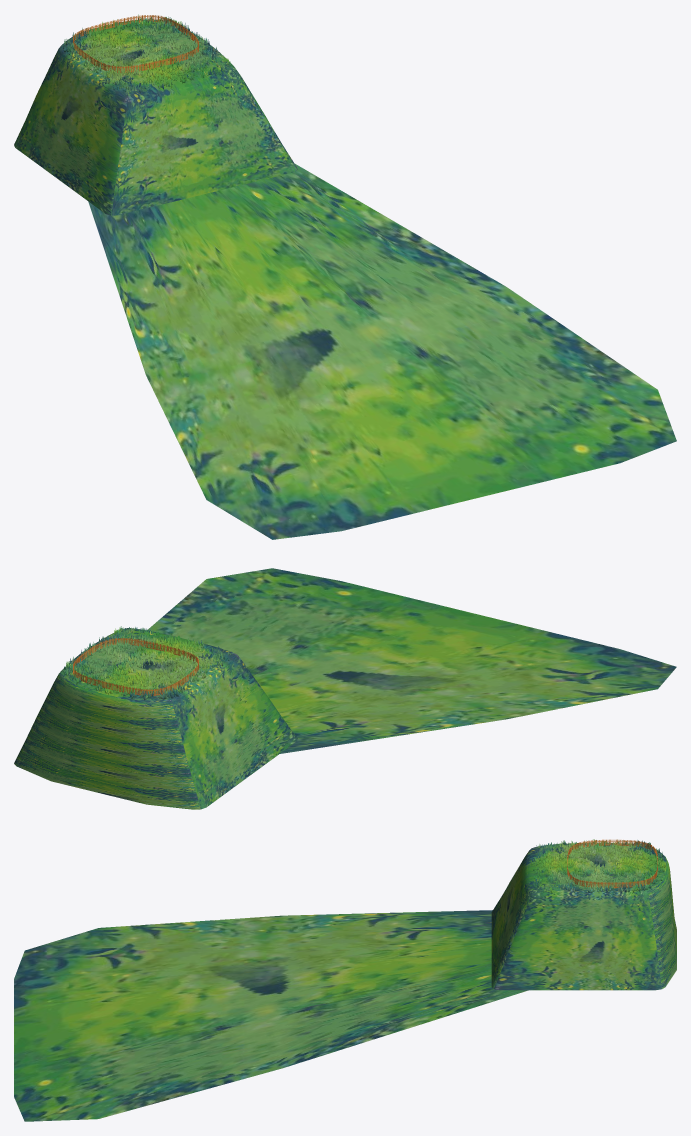
Rendered from Floor.glb.
3 renders of one model, top to bottom at view 1: azimuth 30°, elevation 25°; view 2: azimuth 150°, elevation 25°; view 3: azimuth 270°, elevation 25°, orthographic. The views are drawn at different scales.
Parts seen in each view (by area): view 1: ground, Blades, Fence; view 2: ground, Blades, Fence; view 3: ground, Blades, Fence.
Part boxes in pixels (bbox=[...]): ground: bbox=[14, 19, 676, 539]; Blades: bbox=[63, 14, 231, 95]; Fence: bbox=[73, 15, 198, 72]; ground: bbox=[14, 568, 676, 809]; Blades: bbox=[63, 626, 232, 699]; Fence: bbox=[73, 638, 198, 695]; ground: bbox=[14, 842, 676, 1121]; Blades: bbox=[531, 839, 665, 893]; Fence: bbox=[567, 839, 657, 888].
Size of the model in its own units: 99.13 by 42.94 by 145.
5 materials, 2 textured.
